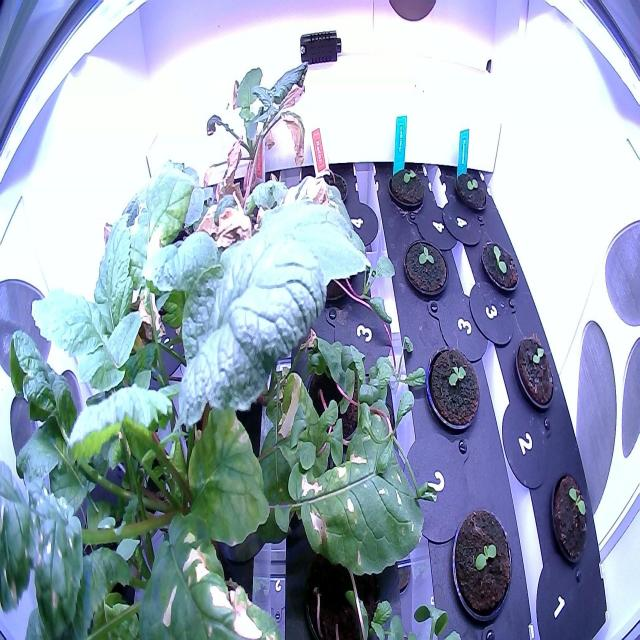germination: (446, 502, 516, 627), (422, 337, 482, 437), (544, 463, 594, 581), (511, 328, 559, 418), (399, 235, 451, 305), (478, 233, 524, 303), (449, 159, 491, 226), (386, 156, 430, 218)
